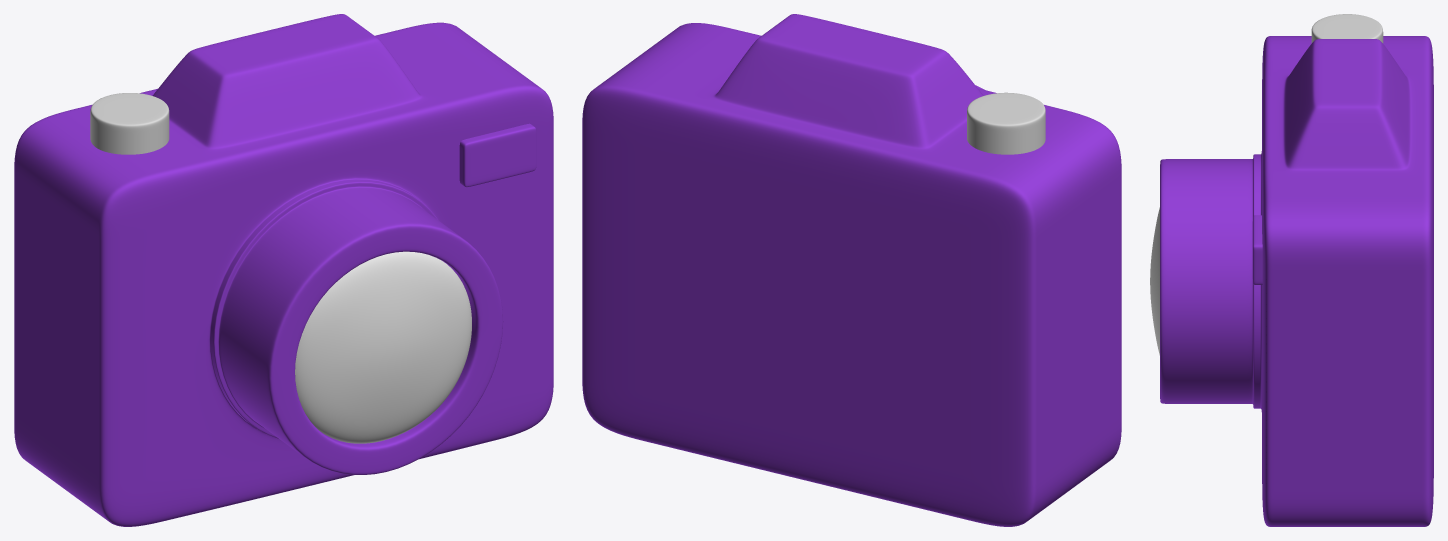
The model's file is camera.fbx.
3 renders of one model, left to right at view 1: azimuth 30°, elevation 25°; view 2: azimuth 150°, elevation 25°; view 3: azimuth 270°, elevation 25°, orthographic. The views are drawn at different scales.
Visible parts, largest first — view 1: Camera.001; view 2: Camera.001; view 3: Camera.001.
Part boxes in pixels (left/top/right/bottom): Camera.001: left=14, top=14, right=553, bottom=526; Camera.001: left=582, top=14, right=1121, bottom=526; Camera.001: left=1150, top=14, right=1433, bottom=526.
Bounding box in the file's own units: 192 × 164 × 115.
